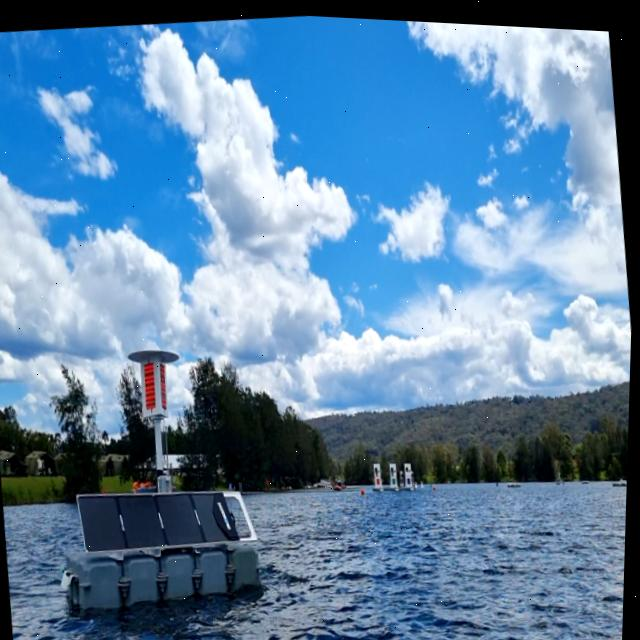led: (142, 359, 163, 411)
